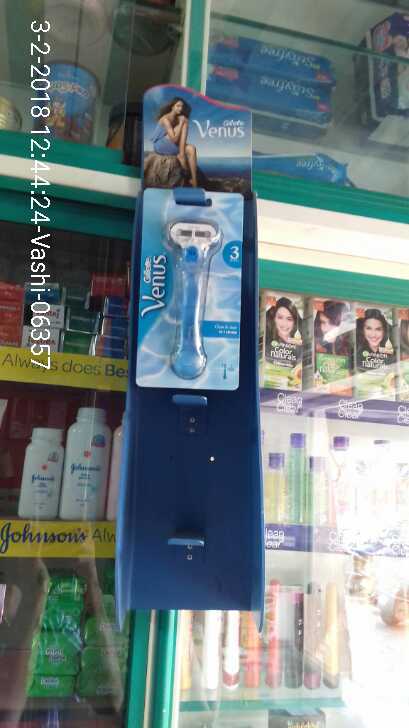venus: (135, 190, 249, 399)
